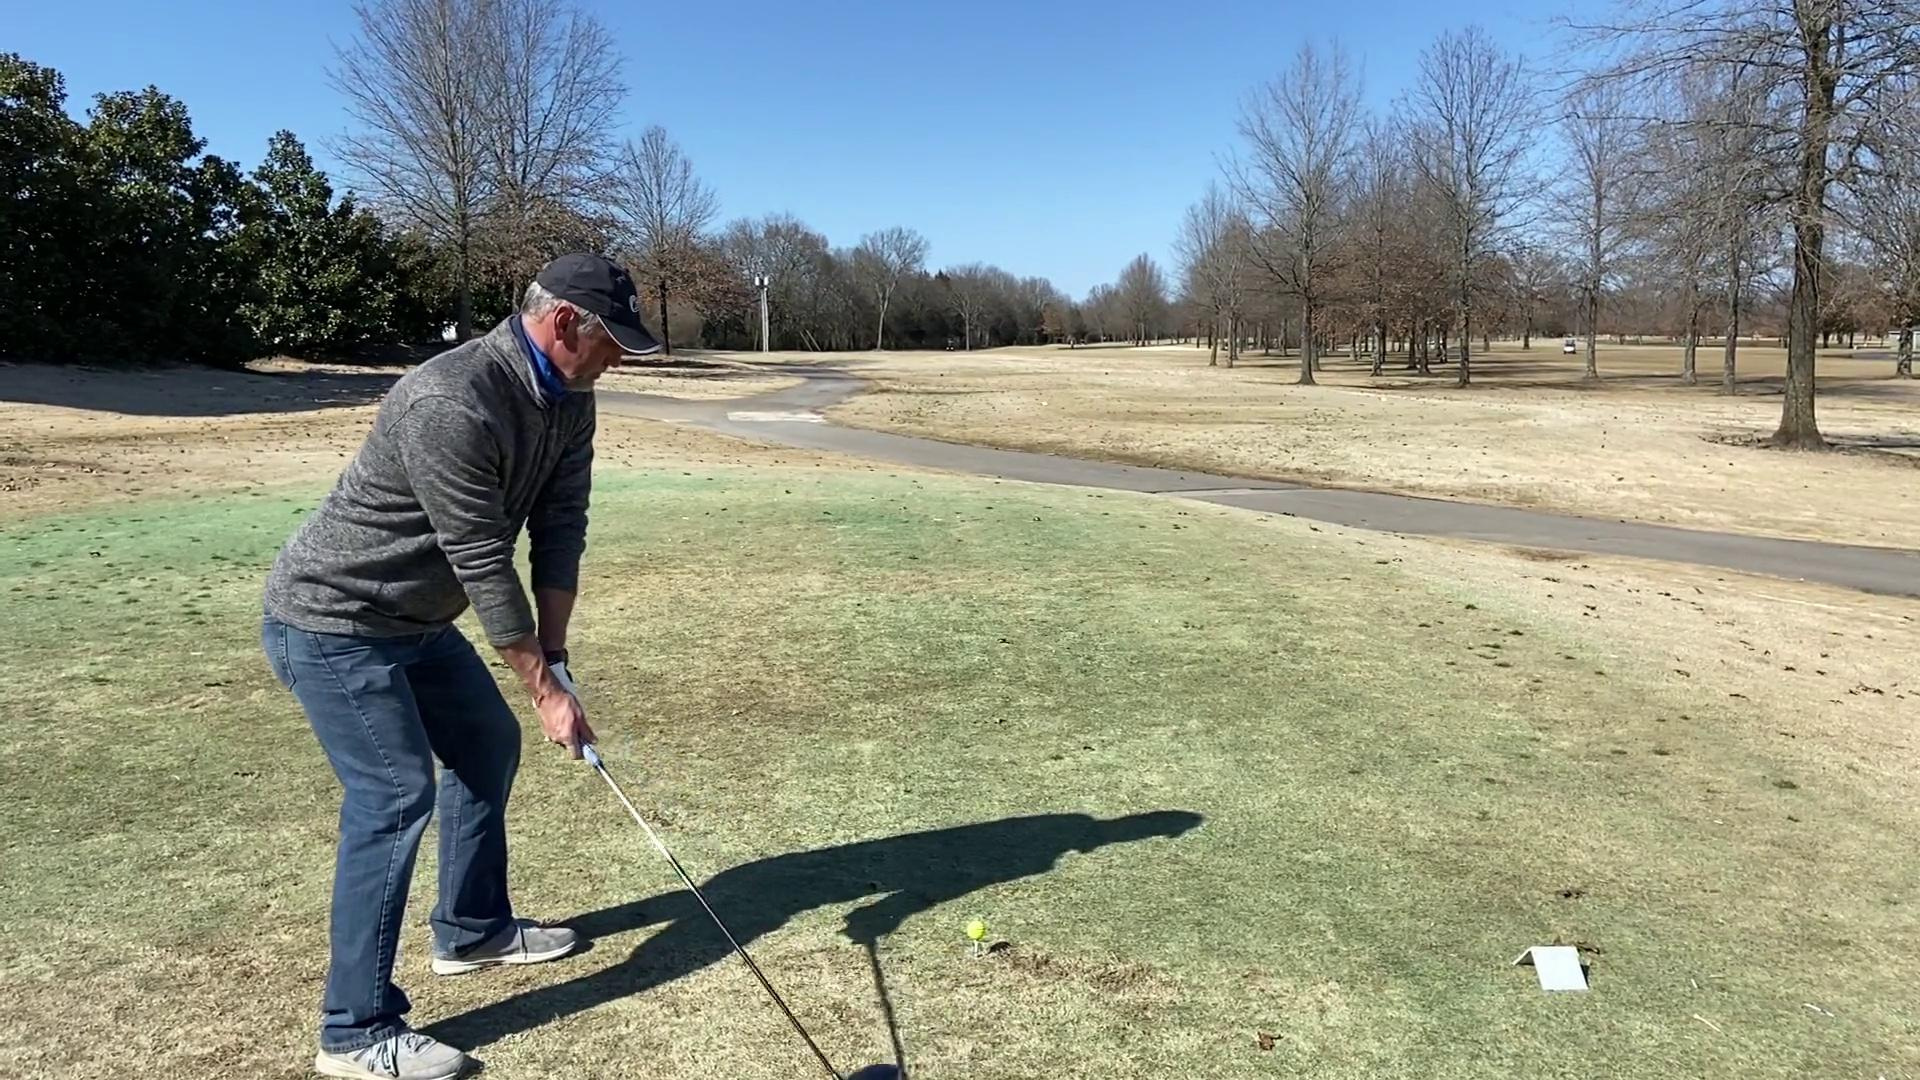GolfBall: (964, 916, 988, 942)
